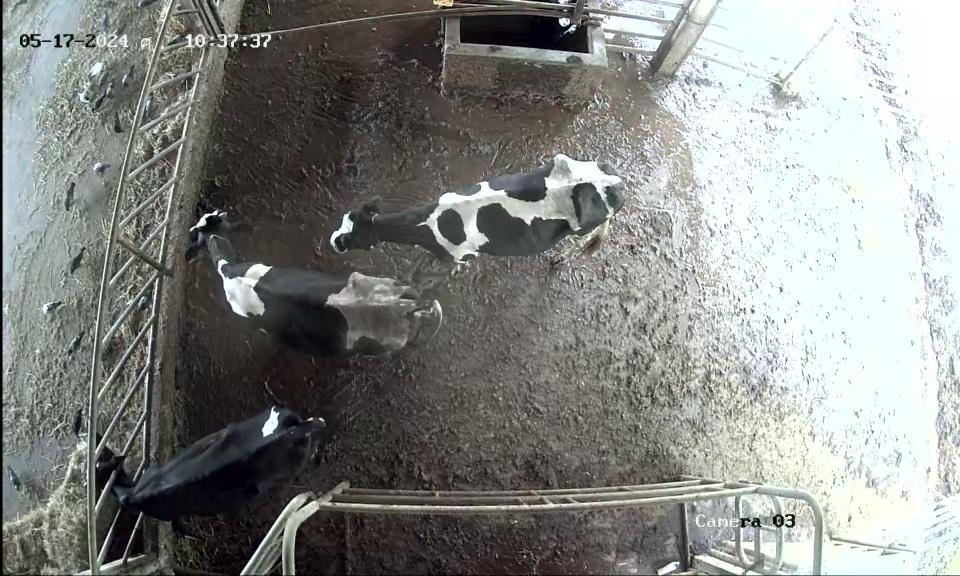eat: (59, 435, 168, 514)
stand: (184, 193, 443, 363), (316, 140, 631, 274)
